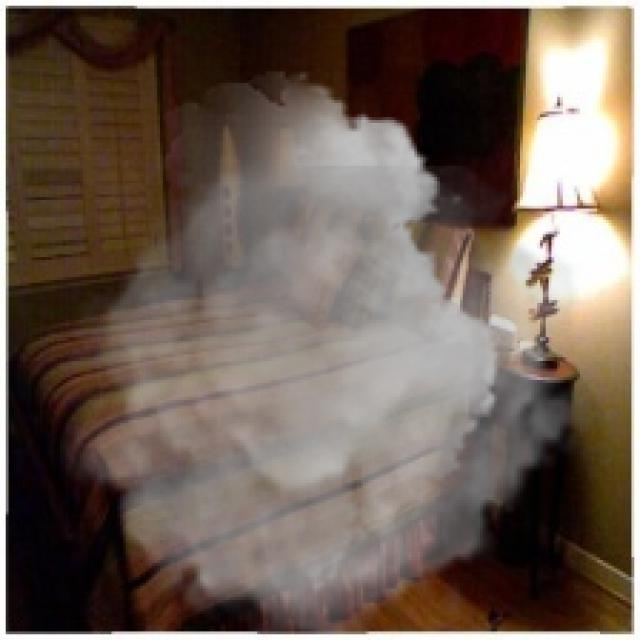smoke: (60, 71, 597, 634)
